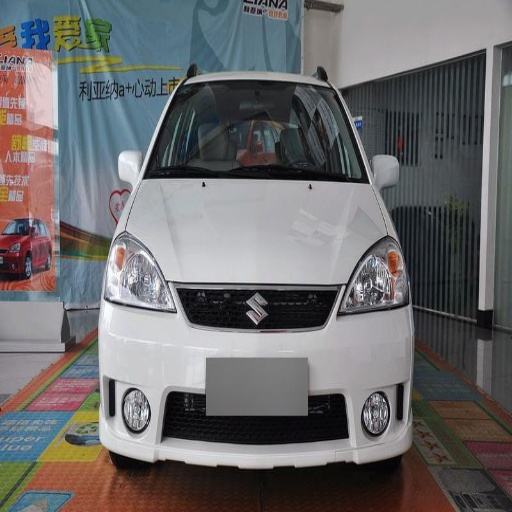front_bumper: (100, 280, 412, 469)
front_right_light: (105, 232, 176, 312)
hood: (129, 179, 384, 282)
